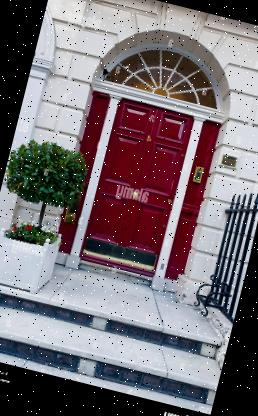door: (43, 72, 236, 306)
tree: (0, 126, 101, 272)
